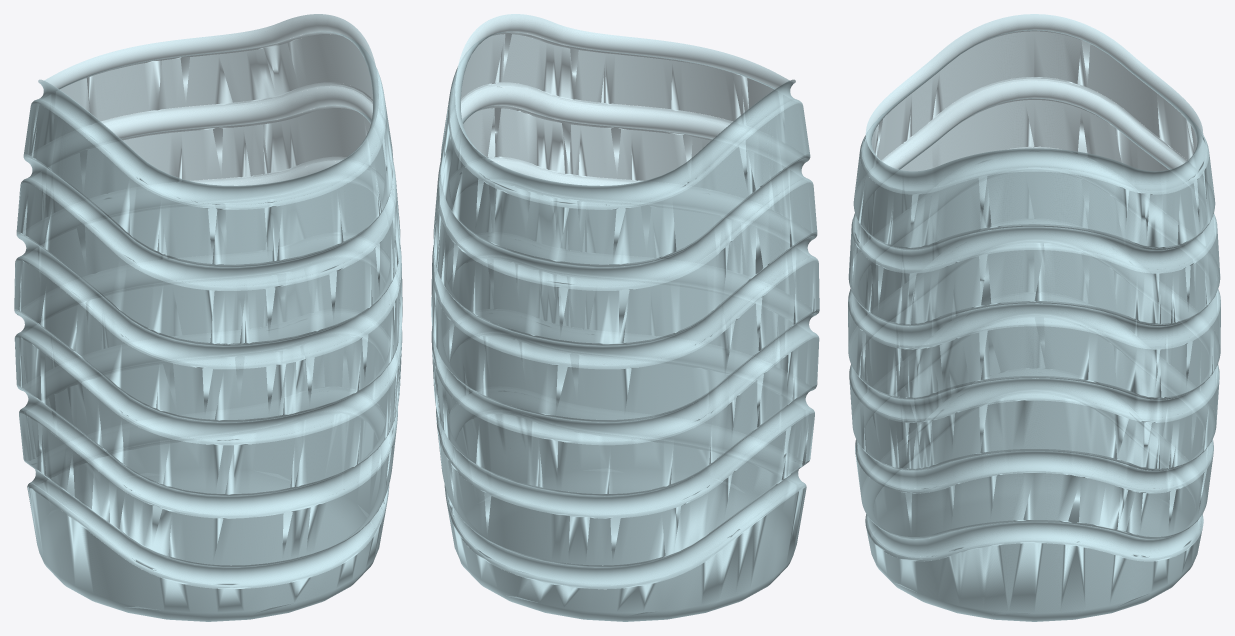
File: original-6.obj
The picture shows the model from 3 angles, left to right: view 1: azimuth 30°, elevation 25°; view 2: azimuth 150°, elevation 25°; view 3: azimuth 270°, elevation 25°; orthographic projection. The views are drawn at different scales.
Parts seen in each view (by area): view 1: mesh5/mesh5-geometry#mesh5-geometry; view 2: mesh5/mesh5-geometry#mesh5-geometry; view 3: mesh5/mesh5-geometry#mesh5-geometry.
Boxes of the visible parts, box(x1,y1,x2,y2) form: mesh5/mesh5-geometry#mesh5-geometry: box(14, 14, 402, 621); mesh5/mesh5-geometry#mesh5-geometry: box(431, 14, 819, 621); mesh5/mesh5-geometry#mesh5-geometry: box(848, 14, 1220, 621).
Bounding box in the file's own units: 0.5269 × 0.7441 × 0.5265.
1 material, 1 textured.
